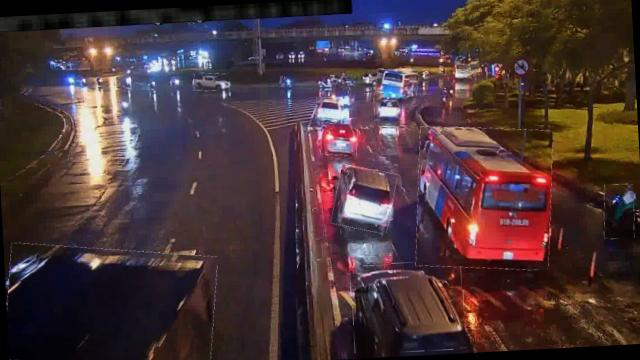Bike: (602, 182, 636, 239)
Bus: (412, 122, 556, 274), (375, 68, 419, 96)
Car: (349, 260, 466, 356), (332, 164, 396, 233), (319, 115, 358, 156), (373, 92, 403, 121), (315, 96, 344, 123), (192, 72, 229, 92)
Truck: (3, 238, 219, 360)
